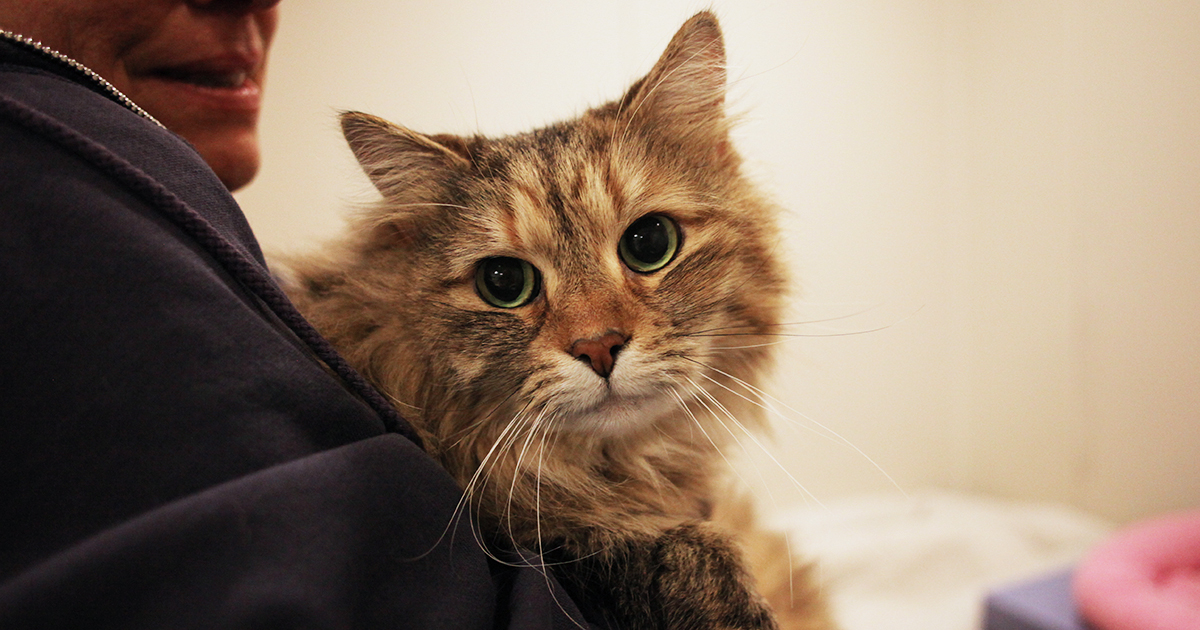cat: (305, 5, 825, 594)
